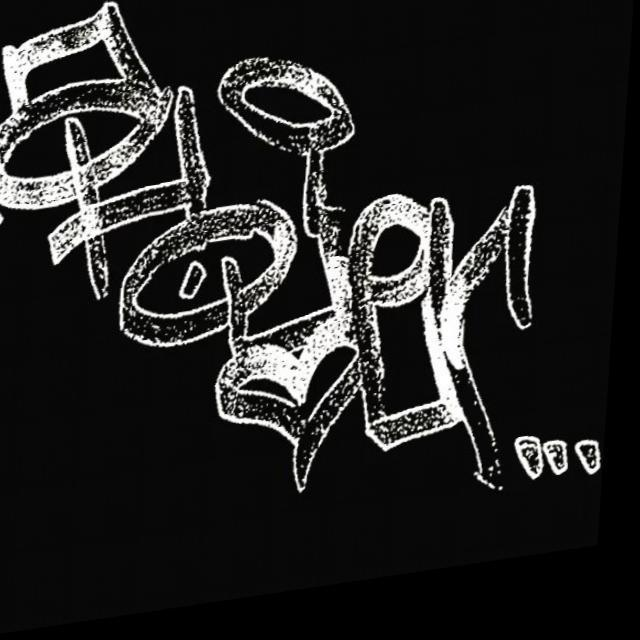nonspitting: (0, 0, 603, 496)
